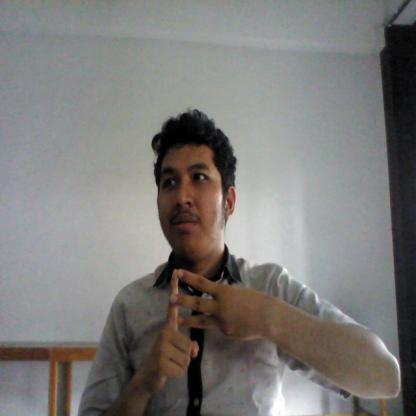B: (144, 266, 245, 385)
